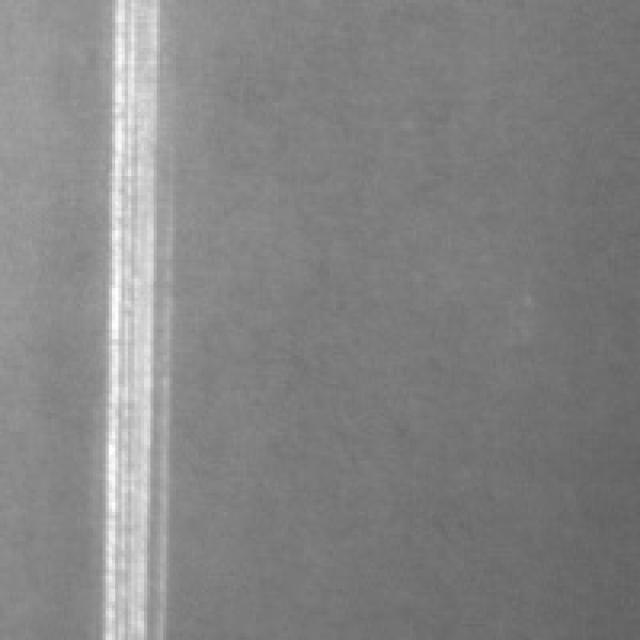scratches: (86, 0, 173, 634)
